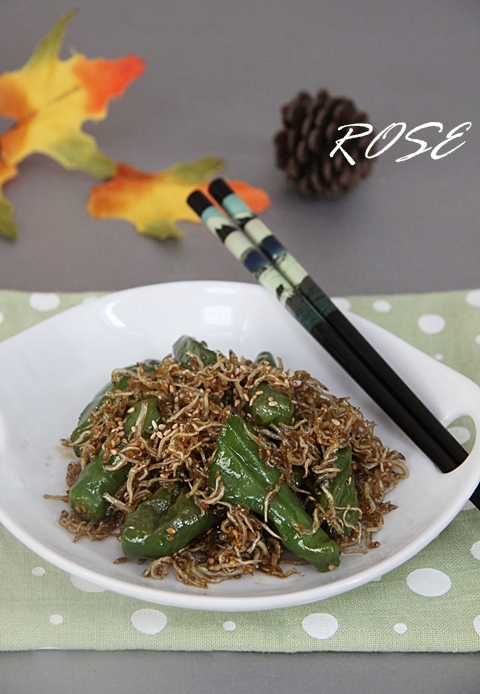myeolchibokk-eum: (41, 330, 408, 592)
